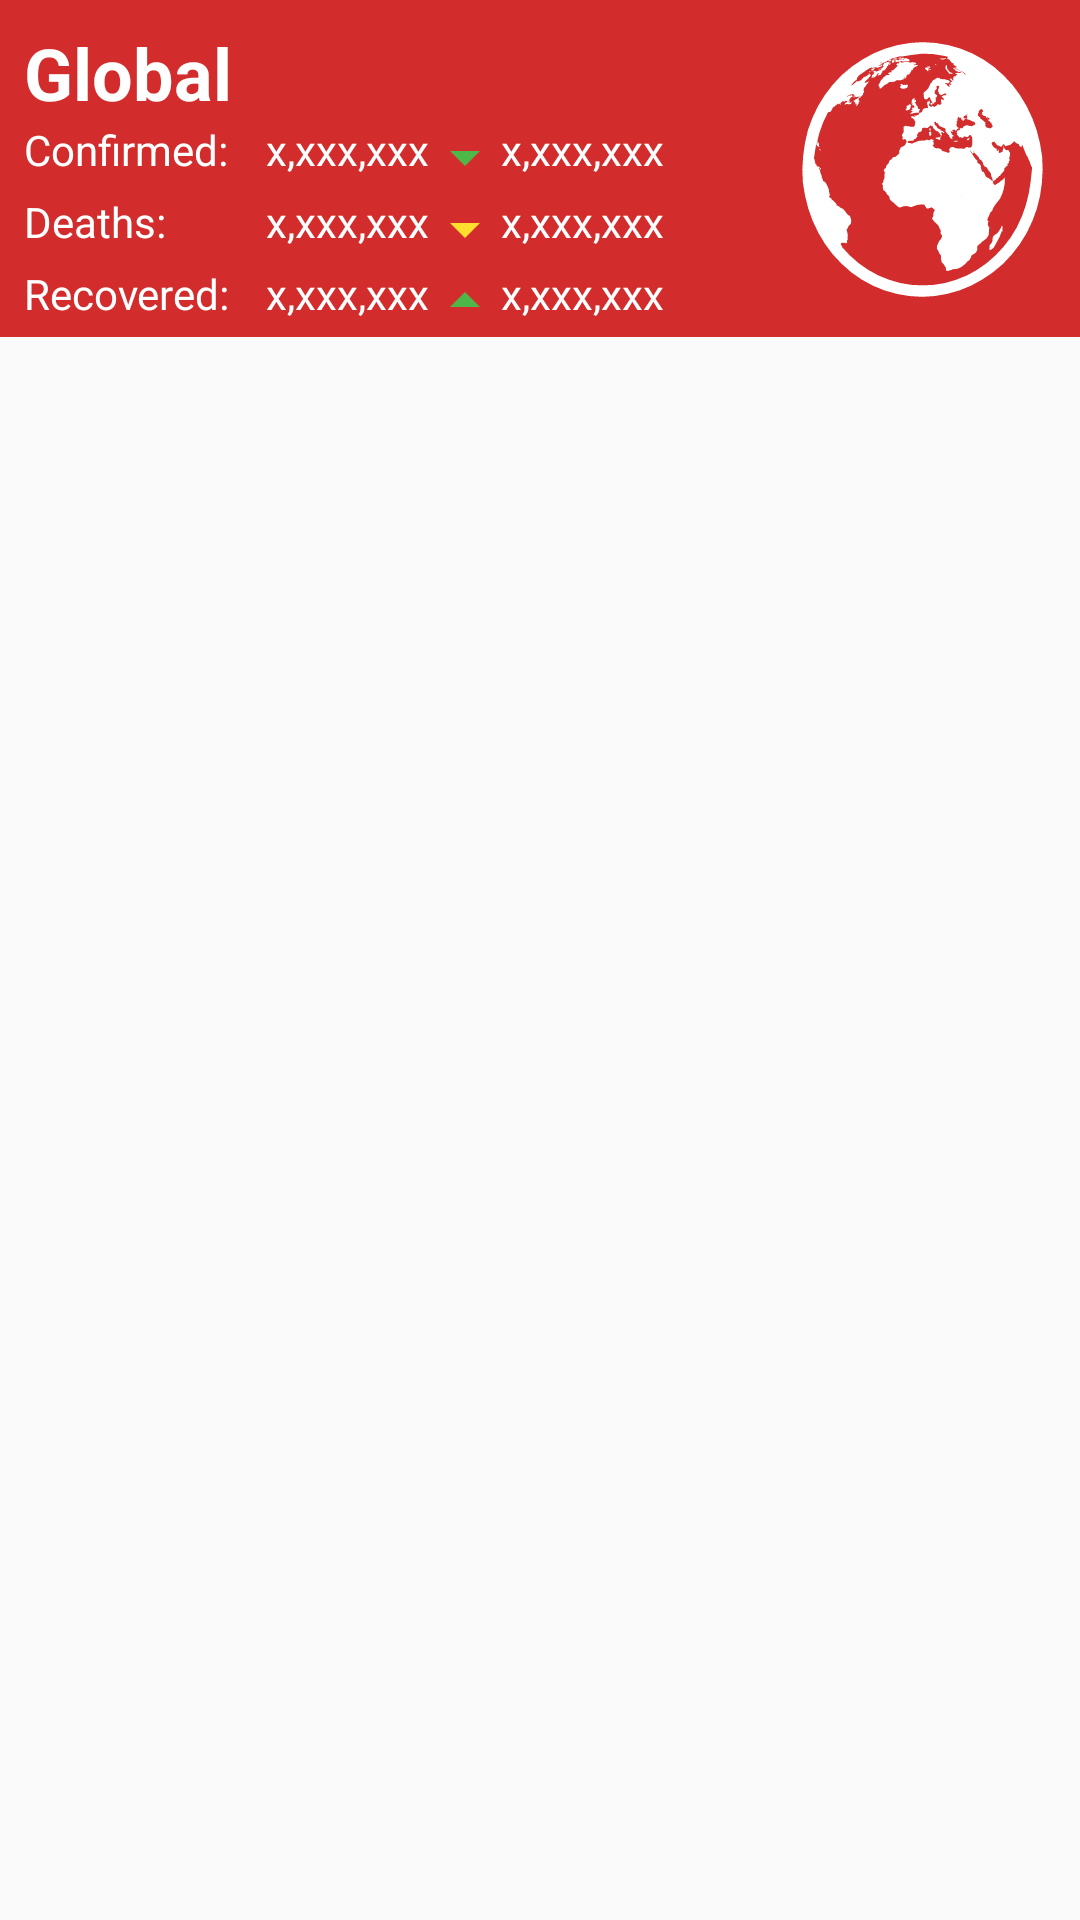

Locate icon controls on the screen. Image size 1080×1920, boxes as (x1, y1, x2, y2).
arrow drop down: (450, 151, 480, 166), (450, 223, 480, 238)
arrow drop up: (450, 292, 480, 307)
Globe: (802, 42, 1043, 297)
